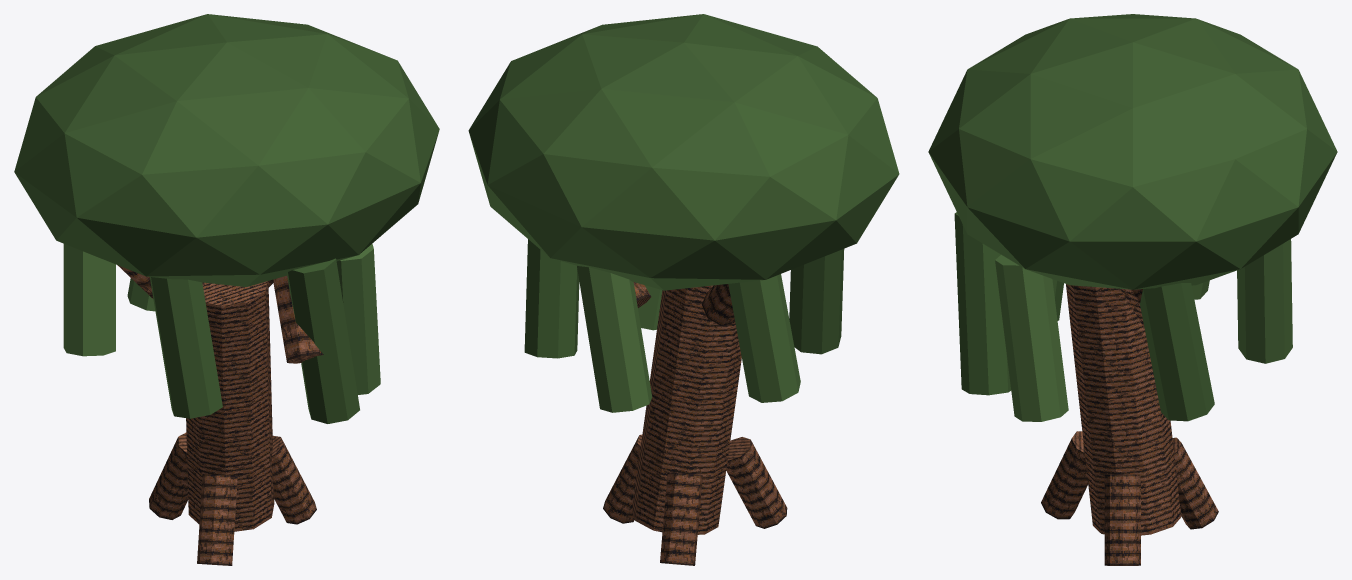
Rendered from sauce_pantano.glb.
3 views of the same model, side by side, from view 1: azimuth 30°, elevation 25°; view 2: azimuth 150°, elevation 25°; view 3: azimuth 270°, elevation 25° (orthographic).
Visible parts, largest first — view 1: Icosphere, Cylinder.003, Cylinder.009, Cylinder.011, Cylinder.008, Cylinder.010, Cylinder.002, Cylinder, Cylinder.001, Cylinder.006, Cylinder.012; view 2: Icosphere, Cylinder.003, Cylinder.012, Cylinder.008, Cylinder.007, Cylinder.011, Cylinder.001, Cylinder.002, Cylinder, Cylinder.005, Cylinder.010; view 3: Icosphere, Cylinder.003, Cylinder.010, Cylinder.007, Cylinder.009, Cylinder.012, Cylinder, Cylinder.002, Cylinder.001.
Part boxes in pixels (x1=…): Icosphere: x1=14, y1=14, x2=439, y2=286; Cylinder.003: x1=186, y1=281, x2=274, y2=531; Cylinder.009: x1=287, y1=258, x2=359, y2=423; Cylinder.011: x1=149, y1=277, x2=222, y2=418; Cylinder.008: x1=63, y1=244, x2=115, y2=356; Cylinder.010: x1=336, y1=243, x2=380, y2=394; Cylinder.002: x1=197, y1=474, x2=237, y2=565; Cylinder: x1=271, y1=435, x2=316, y2=524; Cylinder.001: x1=149, y1=432, x2=188, y2=519; Cylinder.006: x1=273, y1=275, x2=323, y2=363; Cylinder.012: x1=127, y1=278, x2=155, y2=311; Icosphere: x1=468, y1=14, x2=899, y2=290; Cylinder.003: x1=632, y1=285, x2=741, y2=534; Cylinder.012: x1=577, y1=266, x2=652, y2=412; Cylinder.008: x1=728, y1=274, x2=800, y2=402; Cylinder.007: x1=524, y1=239, x2=579, y2=358; Cylinder.011: x1=789, y1=249, x2=844, y2=354; Cylinder.001: x1=660, y1=472, x2=702, y2=565; Cylinder.002: x1=726, y1=437, x2=787, y2=528; Cylinder: x1=603, y1=434, x2=642, y2=523; Cylinder.005: x1=702, y1=284, x2=734, y2=325; Cylinder.010: x1=638, y1=285, x2=662, y2=330; Icosphere: x1=928, y1=14, x2=1337, y2=289; Cylinder.003: x1=1066, y1=284, x2=1181, y2=535; Cylinder.010: x1=995, y1=254, x2=1068, y2=421; Cylinder.007: x1=1139, y1=283, x2=1214, y2=421; Cylinder.009: x1=954, y1=212, x2=1011, y2=395; Cylinder.012: x1=1237, y1=239, x2=1292, y2=363; Cylinder: x1=1104, y1=474, x2=1140, y2=565; Cylinder.002: x1=1041, y1=431, x2=1088, y2=519; Cylinder.001: x1=1172, y1=437, x2=1218, y2=529.
Size of the model in its own units: 2.1 by 2.71 by 2.02.
3 materials, 1 textured.
